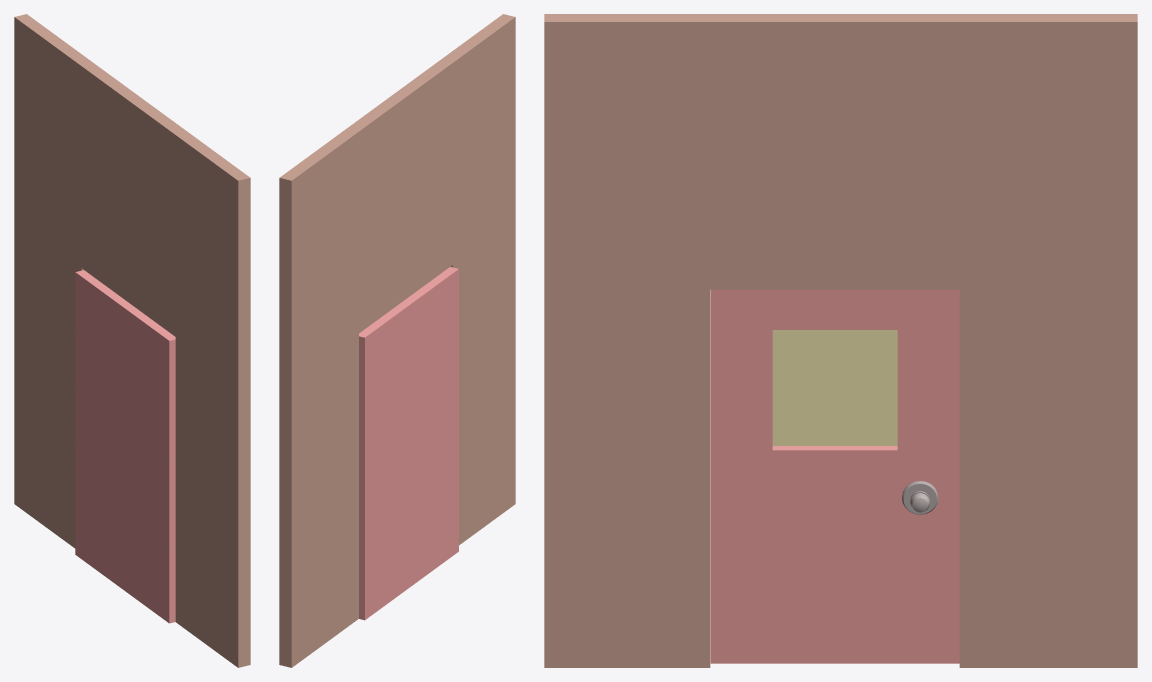
File: wall_door.fbx
3 views of the same model, side by side, from view 1: azimuth 30°, elevation 25°; view 2: azimuth 150°, elevation 25°; view 3: azimuth 270°, elevation 25° (orthographic). The views are drawn at different scales.
Visible parts, largest first — view 1: polySurface1, polySurface3; view 2: polySurface1, polySurface3; view 3: polySurface1, polySurface3.
Part boxes in pixels (x1,y1,x2,y2): polySurface1: (14, 14, 250, 667); polySurface3: (75, 270, 175, 623); polySurface1: (279, 14, 515, 667); polySurface3: (359, 267, 458, 620); polySurface1: (544, 14, 1137, 667); polySurface3: (710, 289, 959, 663).
Size of the model in its own units: 0.8386 by 15 by 12.49.
